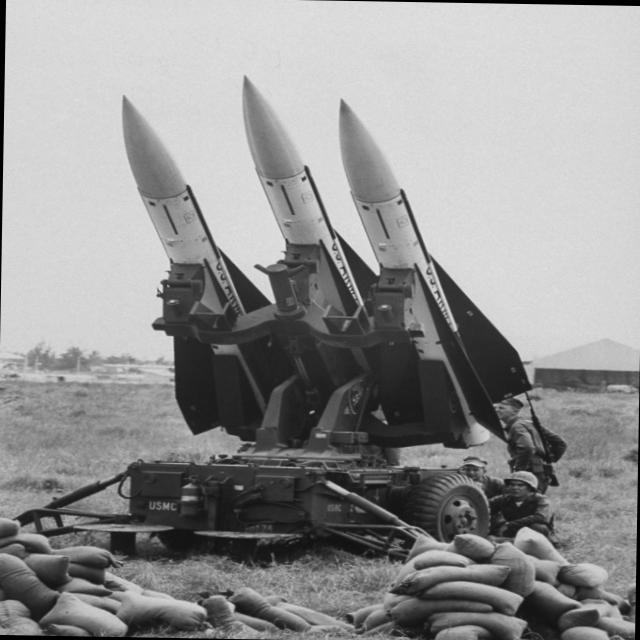rocket: (99, 69, 517, 414)
